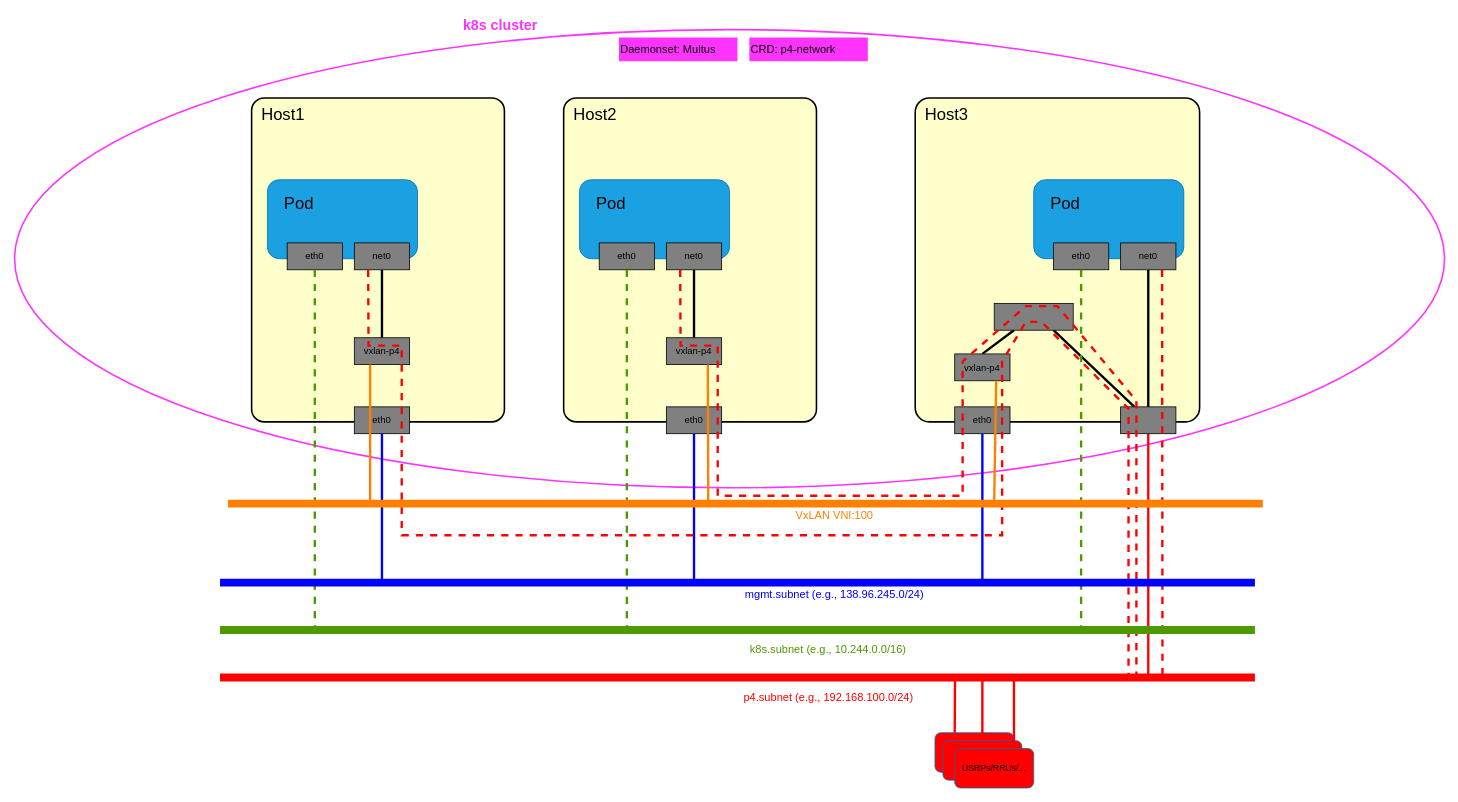
The diagram is 1458 pixels wide and 802 high, and some of its shapes have lost their labels. Here are the shapes that lost their labels. From the top down, the centre of each, then its label:
At point 1033,316: "br-p4".
At point 1148,420: "team0".
